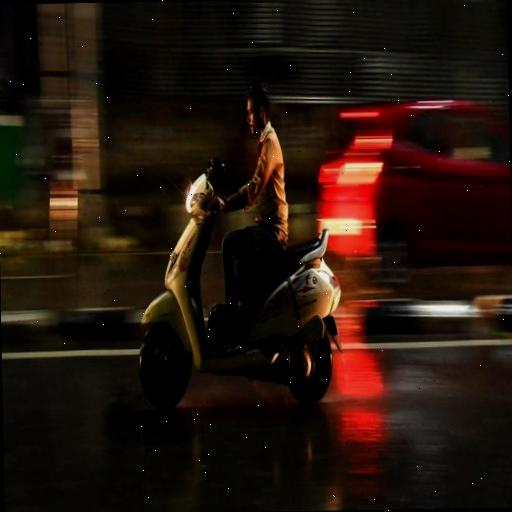no helmet: (216, 69, 305, 383)
